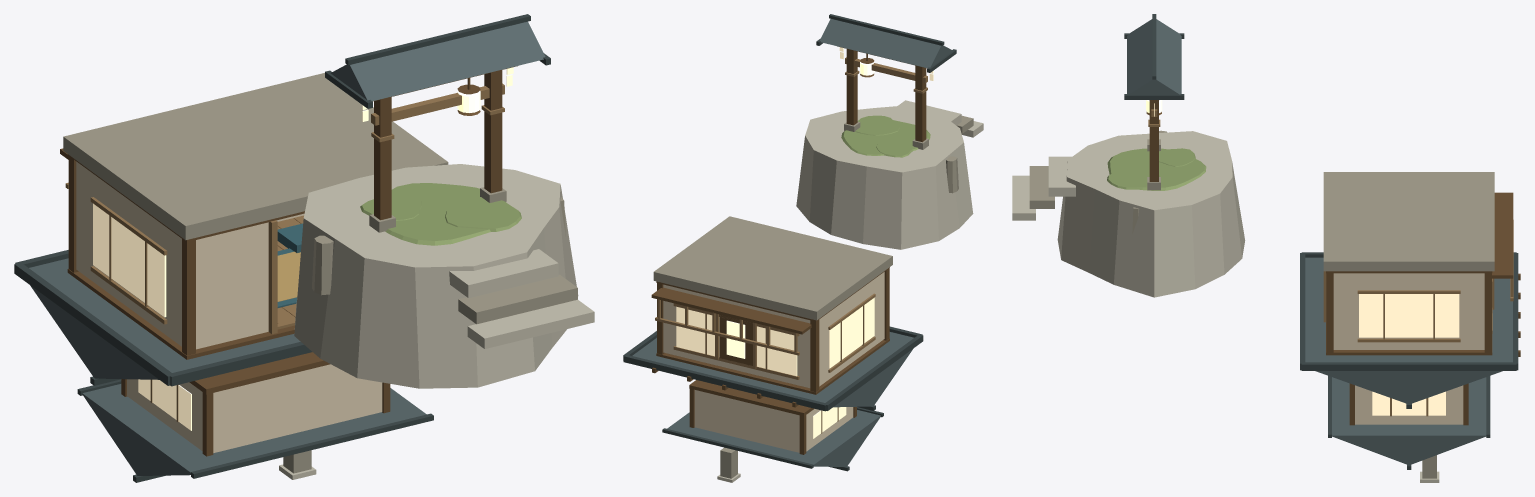
Rendered from reflection-house-v2.glb.
3 renders of one model, left to right at view 1: azimuth 30°, elevation 25°; view 2: azimuth 150°, elevation 25°; view 3: azimuth 270°, elevation 25°, orthographic. The views are drawn at different scales.
Visible parts, largest first — view 1: RH_Details_Stone, RH_Occluder_StoneDark, RH_Occluder_Wall, RH_Occluder_Roof, RH_Details_Roof, RH_Occluder_RoofDark, RH_Details_Wood, RH_Occluder_Wood, RH_Details_Moss, RH_Occluder_Paper, RH_Details_StoneDark, RH_Occluder_WoodLight (+4 smaller); view 2: RH_Details_Stone, RH_Occluder_StoneDark, RH_Occluder_Wall, RH_Occluder_Roof, RH_Details_Wood, RH_Occluder_Paper, RH_Occluder_RoofDark, RH_Occluder_Wood, RH_Details_Roof, RH_Details_Moss, RH_Details_WoodLight, RH_Occluder_WoodLight (+3 smaller); view 3: RH_Details_Stone, RH_Occluder_StoneDark, RH_Occluder_Roof, RH_Occluder_Wall, RH_Occluder_Paper, RH_Occluder_RoofDark, RH_Details_Roof, RH_Details_Wood, RH_Details_Moss, RH_Occluder_Wood, RH_Occluder_WoodLight, RH_Details_StoneDark (+1 smaller).
Boxes of the visible parts, bbox=[...] form: RH_Details_Stone: bbox=[294, 164, 594, 388]; RH_Occluder_StoneDark: bbox=[63, 73, 448, 473]; RH_Occluder_Wall: bbox=[76, 161, 382, 452]; RH_Occluder_Roof: bbox=[29, 258, 426, 475]; RH_Details_Roof: bbox=[330, 21, 545, 101]; RH_Occluder_RoofDark: bbox=[14, 250, 433, 482]; RH_Details_Wood: bbox=[60, 66, 517, 359]; RH_Occluder_Wood: bbox=[67, 154, 390, 456]; RH_Details_Moss: bbox=[360, 183, 521, 245]; RH_Occluder_Paper: bbox=[93, 203, 191, 430]; RH_Details_StoneDark: bbox=[312, 187, 577, 324]; RH_Occluder_WoodLight: bbox=[90, 197, 277, 422]; RH_Details_Stone: bbox=[796, 100, 983, 249]; RH_Occluder_StoneDark: bbox=[653, 216, 892, 478]; RH_Occluder_Wall: bbox=[663, 272, 884, 452]; RH_Occluder_Roof: bbox=[632, 332, 913, 466]; RH_Details_Wood: bbox=[651, 46, 926, 394]; RH_Occluder_Paper: bbox=[676, 297, 874, 438]; RH_Occluder_RoofDark: bbox=[623, 326, 923, 471]; RH_Occluder_Wood: bbox=[652, 267, 889, 454]; RH_Details_Roof: bbox=[820, 19, 952, 68]; RH_Details_Moss: bbox=[841, 115, 930, 157]; RH_Details_WoodLight: bbox=[655, 57, 927, 369]; RH_Occluder_WoodLight: bbox=[673, 293, 875, 433]; RH_Details_Stone: bbox=[1012, 131, 1245, 297]; RH_Occluder_StoneDark: bbox=[1323, 172, 1494, 478]; RH_Occluder_Roof: bbox=[1305, 257, 1512, 465]; RH_Occluder_Wall: bbox=[1333, 273, 1484, 424]; RH_Occluder_Paper: bbox=[1359, 294, 1459, 415]; RH_Occluder_RoofDark: bbox=[1300, 252, 1518, 469]; RH_Details_Roof: bbox=[1127, 19, 1181, 94]; RH_Details_Wood: bbox=[1146, 100, 1513, 355]; RH_Details_Moss: bbox=[1107, 148, 1206, 190]; RH_Occluder_Wood: bbox=[1326, 271, 1520, 425]; RH_Occluder_WoodLight: bbox=[1323, 271, 1492, 416]; RH_Details_StoneDark: bbox=[1029, 130, 1167, 233].
Size of the model in its own units: 5.84 by 10.05 by 11.17.
